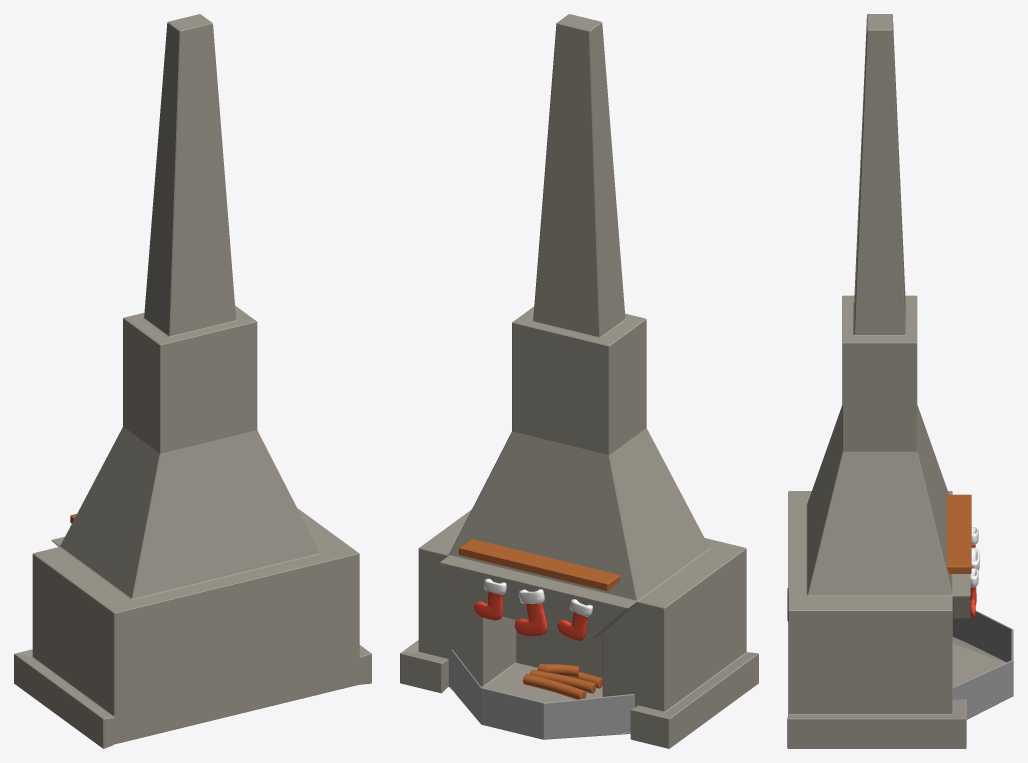
The model's file is FirePlace.fbx.
3 views of the same model, side by side, from view 1: azimuth 30°, elevation 25°; view 2: azimuth 150°, elevation 25°; view 3: azimuth 270°, elevation 25° (orthographic).
Visible parts, largest first — view 1: Cube; view 2: Cube, Cube.002, Cube.005, Cube.004; view 3: Cube, Cube.002, Cube.005.
Boxes of the visible parts, <box> form: Cube: <box>14,14,371,748</box>; Cube: <box>400,14,758,748</box>; Cube.002: <box>451,649,634,739</box>; Cube.005: <box>474,578,592,640</box>; Cube.004: <box>523,663,602,699</box>; Cube: <box>787,14,1006,748</box>; Cube.002: <box>952,610,1013,719</box>; Cube.005: <box>970,527,979,617</box>.
Bounding box in the file's own units: 855 × 2008 × 623.
